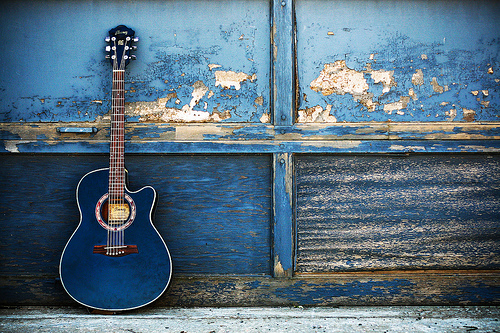guitar: (57, 23, 174, 312)
